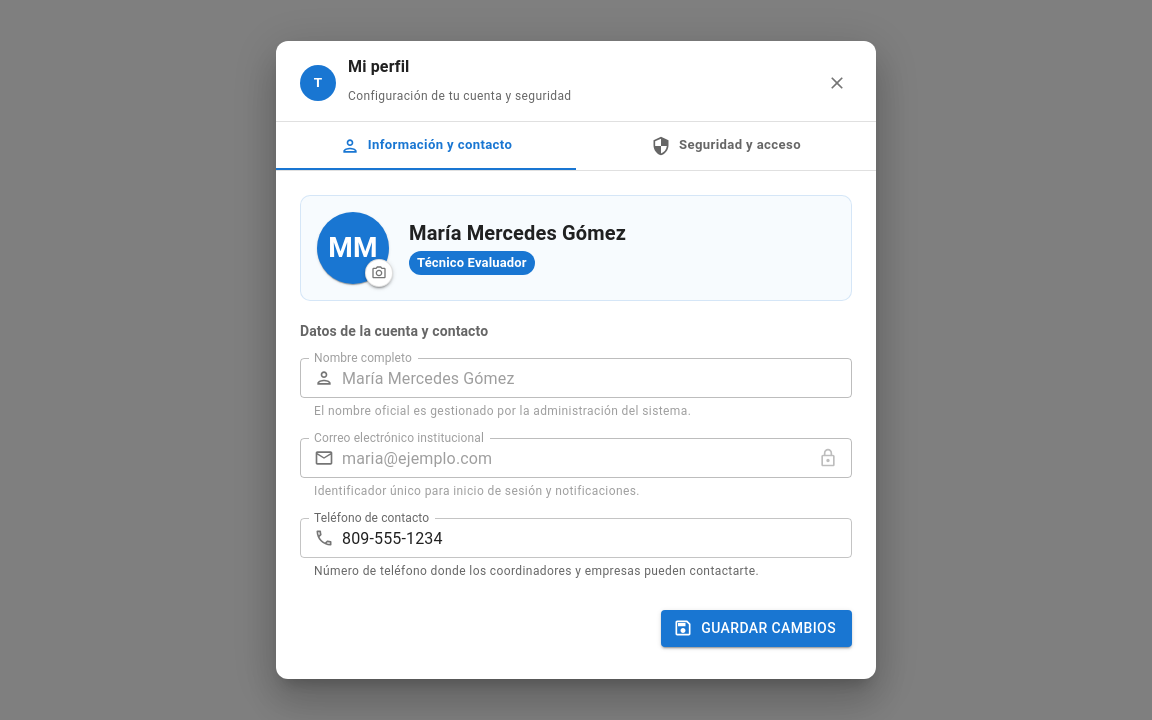
DialogPerfil › muestra la sección de Estado de la aplicación para TECNICO_EVALUADOR en Seguridad
Click the tab "Seguridad y acceso" at (726, 146), box [576, 122, 876, 170]
(page scrolled)
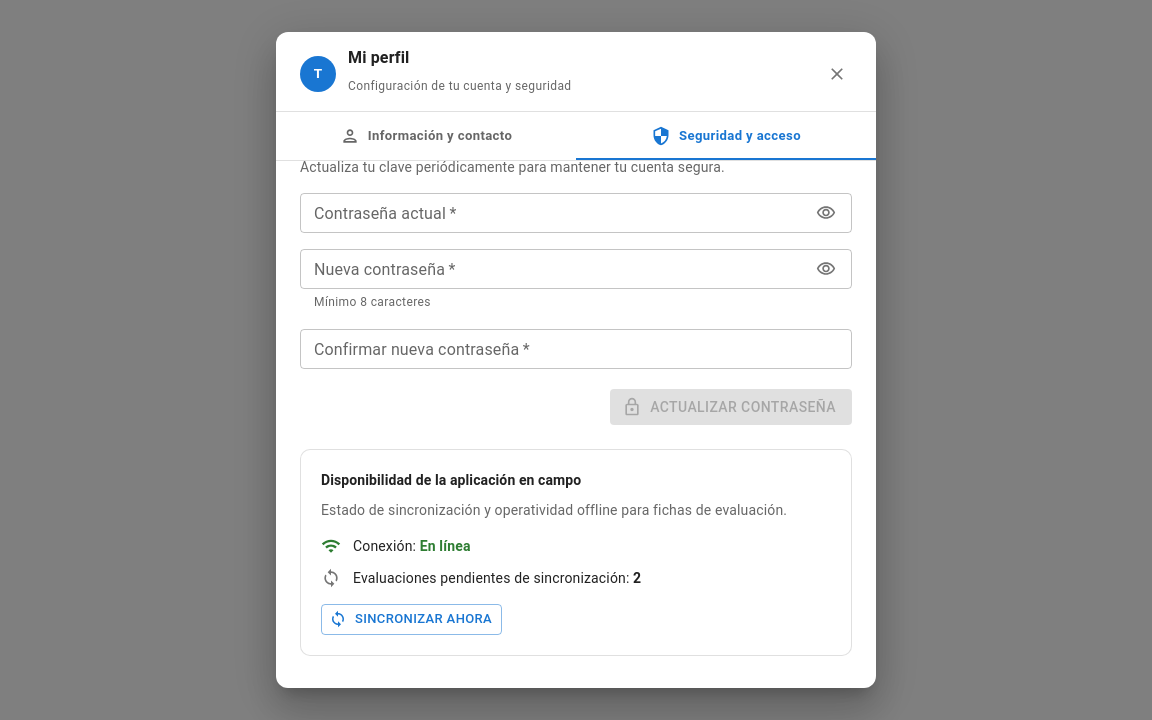
Expected: the heading "Disponibilidad de la aplicación en campo" is shown, [321, 472, 581, 488]
Expected: the text "En línea" is shown, [420, 538, 471, 554]
Expected: the text "Evaluaciones pendientes de sincronización: 2" is shown, [353, 568, 641, 588]
